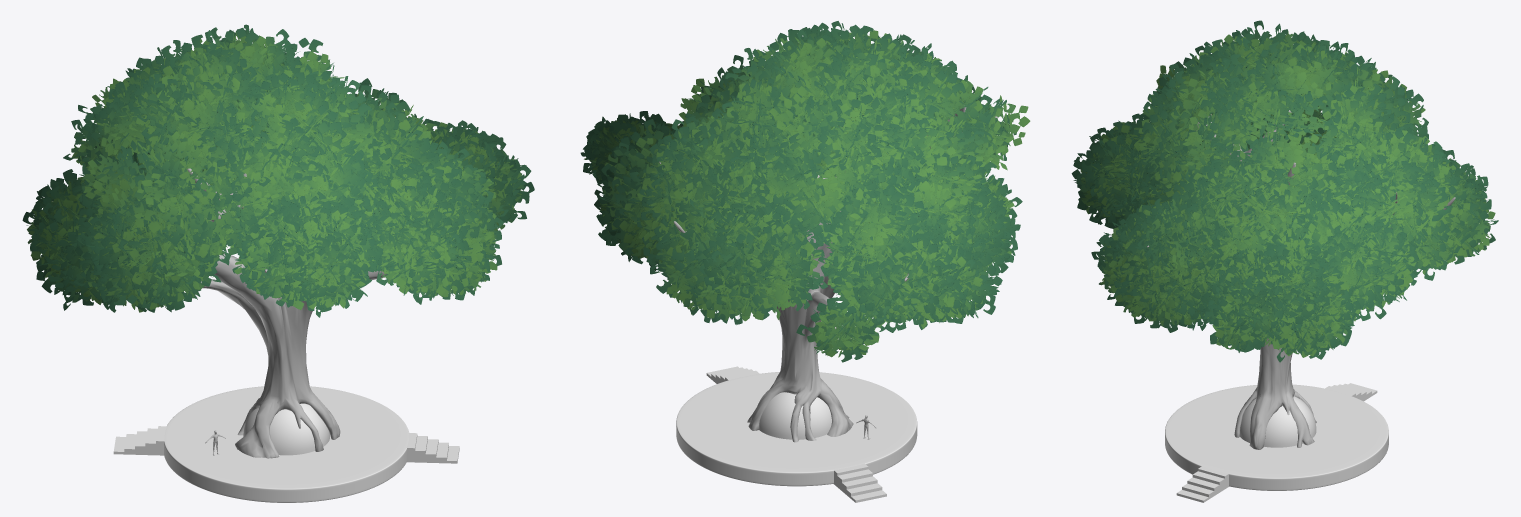
The model's file is Tree - testing.fbx.
3 views of the same model, side by side, from view 1: azimuth 30°, elevation 25°; view 2: azimuth 150°, elevation 25°; view 3: azimuth 270°, elevation 25° (orthographic). The views are drawn at different scales.
Visible parts, largest first — view 1: Wood, Stand, Stair, Tank; view 2: Wood, Stand, Tank, Stair; view 3: Wood, Stand, Tank, Stair.
Boxes of the visible parts, x1,y1,x2,y2 form: Wood: (22, 24, 534, 458); Stand: (164, 386, 409, 502); Stair: (113, 426, 459, 463); Tank: (243, 403, 329, 455); Wood: (580, 21, 1030, 442); Stand: (676, 372, 917, 486); Tank: (757, 388, 831, 439); Stair: (706, 366, 886, 502); Wood: (1071, 20, 1498, 449); Stand: (1165, 384, 1388, 490); Tank: (1239, 396, 1316, 447); Stair: (1176, 383, 1377, 502).
Bounding box in the file's own units: 3647 × 3194 × 3284.
